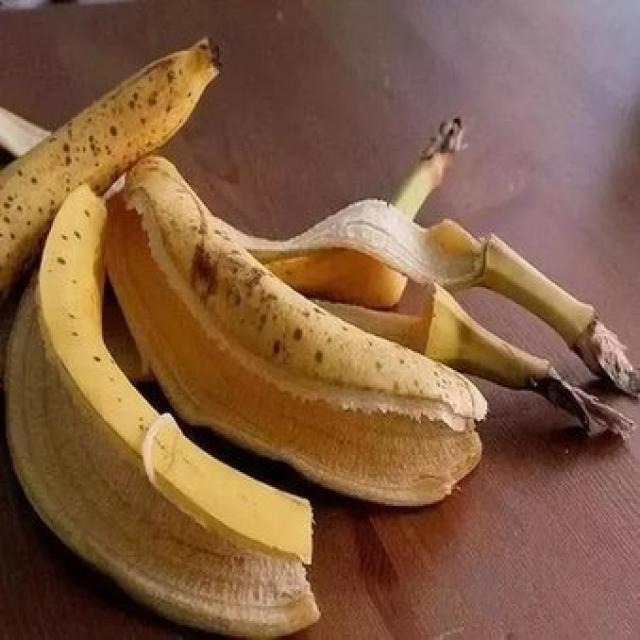-Kitchen waste - fruit-: (0, 37, 637, 639)
